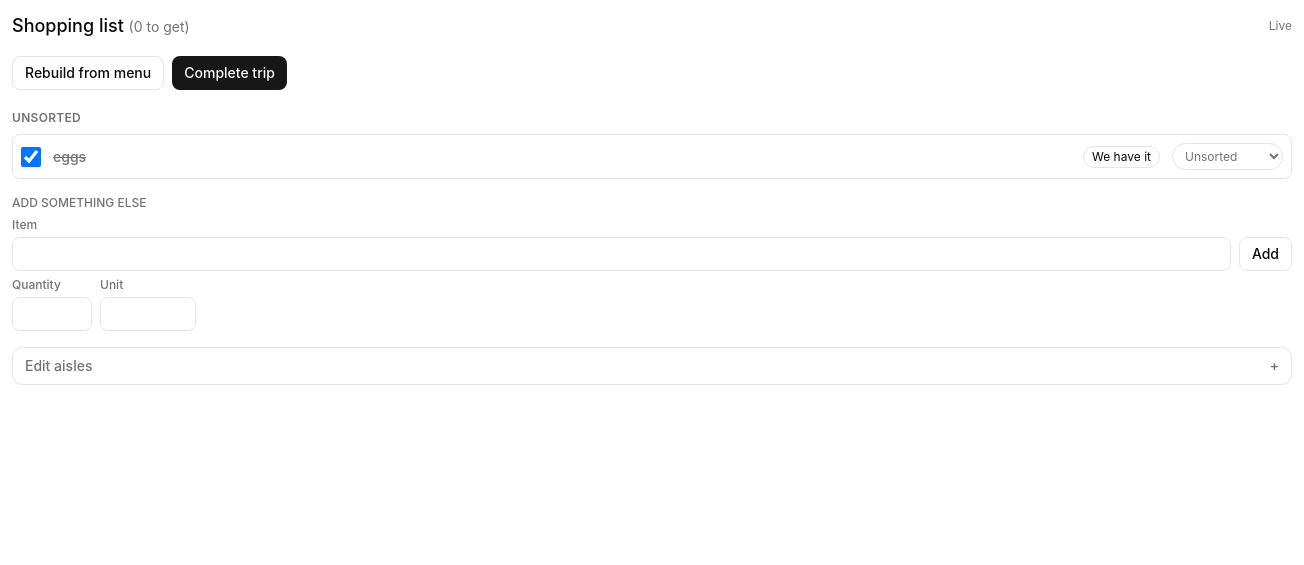
it: GroceryList — promoting staples after a trip › keeps only the failed names after a partial failure, then a retry sends just those
This screenshot has width=1304, height=565.
Click the button "Complete trip" at (230, 73), box [172,56,287,90]
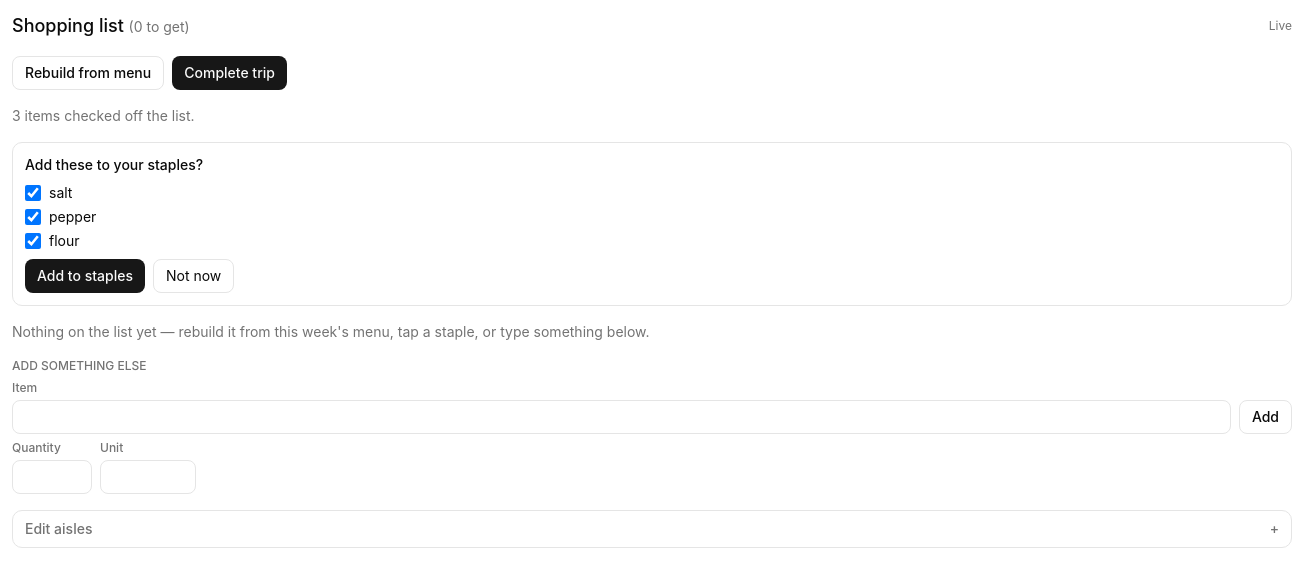
Expected: the element with test id "promotion-prompt" is shown, [12,142,1292,306]
Click the button "Add to staples" at (85, 276), box [25,259,145,293]
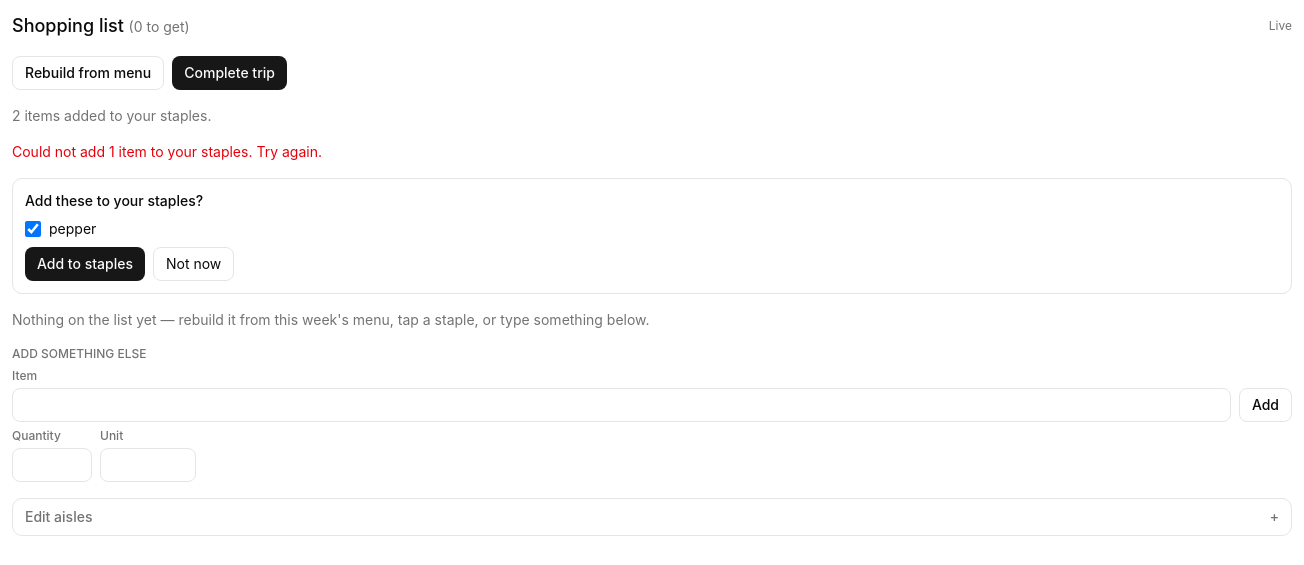
Expected: the checkbox labelled "pepper" is checked, [25,221,41,237]
Expected: the message "Could not add 1 item to your staples. Try again." is shown, [12,143,322,160]
Expected: the message with test id "grocery-notice" reads "2 items added to your staples.", [12,107,212,124]
Click the button "Add to staples" at (85, 264), box [25,247,145,281]
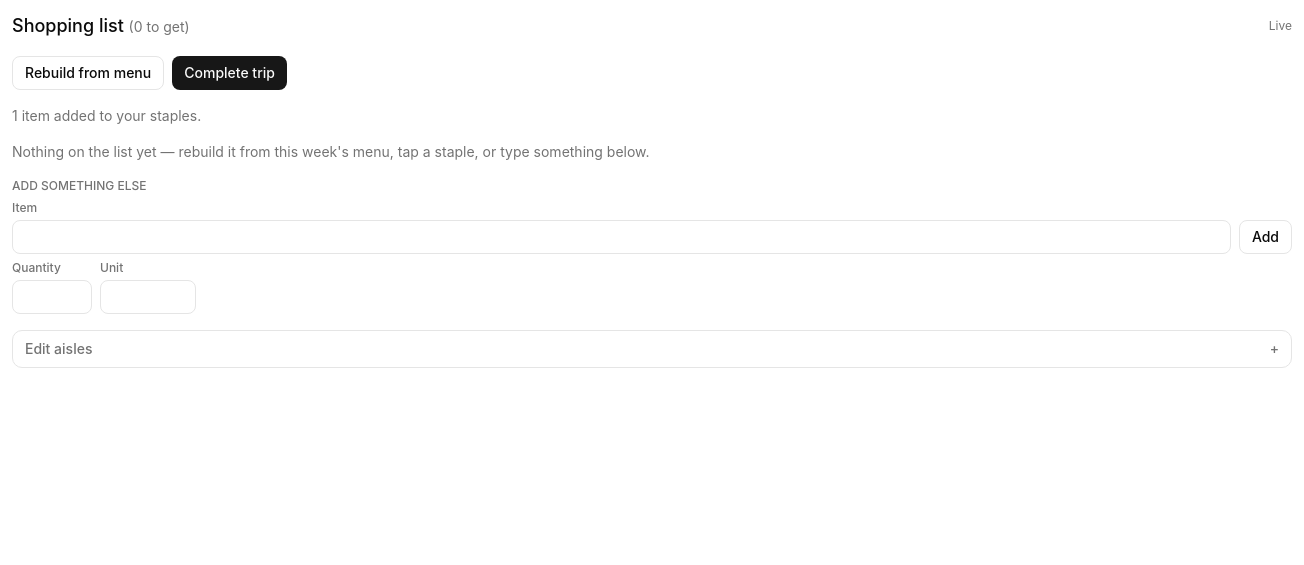
Expected: the element with test id "promotion-prompt" is gone
Expected: the message "Could not add 1 item to your staples. Try again." is gone
Expected: the message with test id "grocery-notice" reads "1 item added to your staples.", [12,107,201,124]
